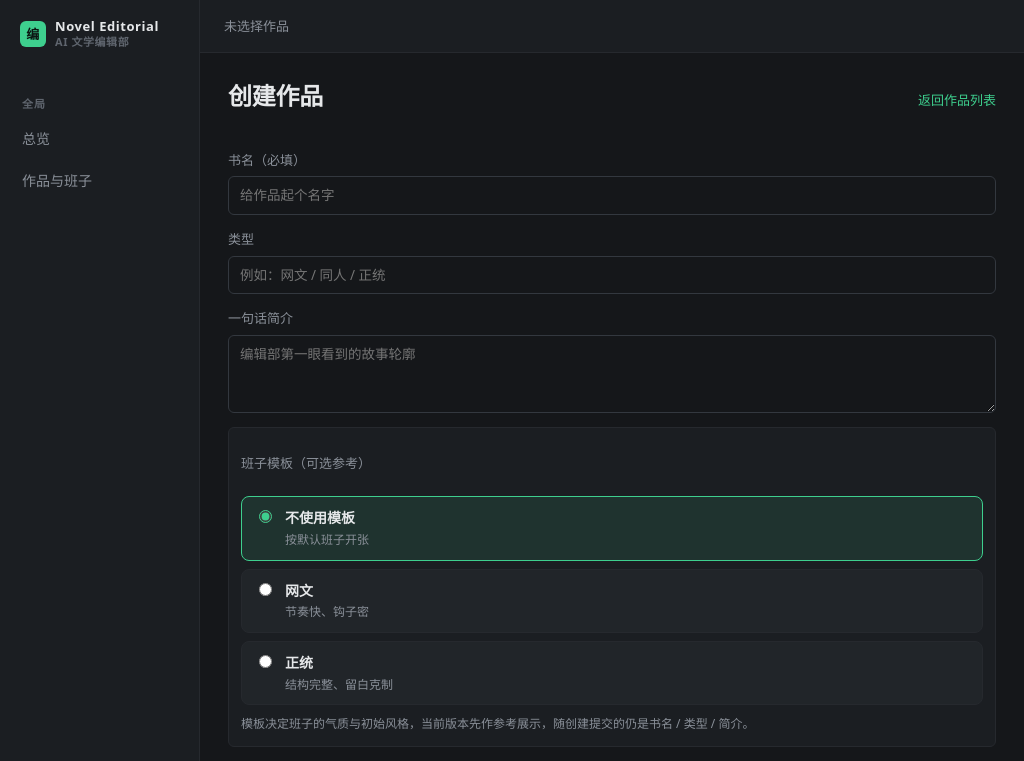
Test: works create page › creates the workspace and lands on its detail page with the shell selection set
This screenshot has width=1024, height=761.
expect the text "网文" is shown: met, box [285, 581, 313, 600]
Type "乙书" into the field with test id "works-title-input" at [612, 196], box [228, 176, 996, 215]
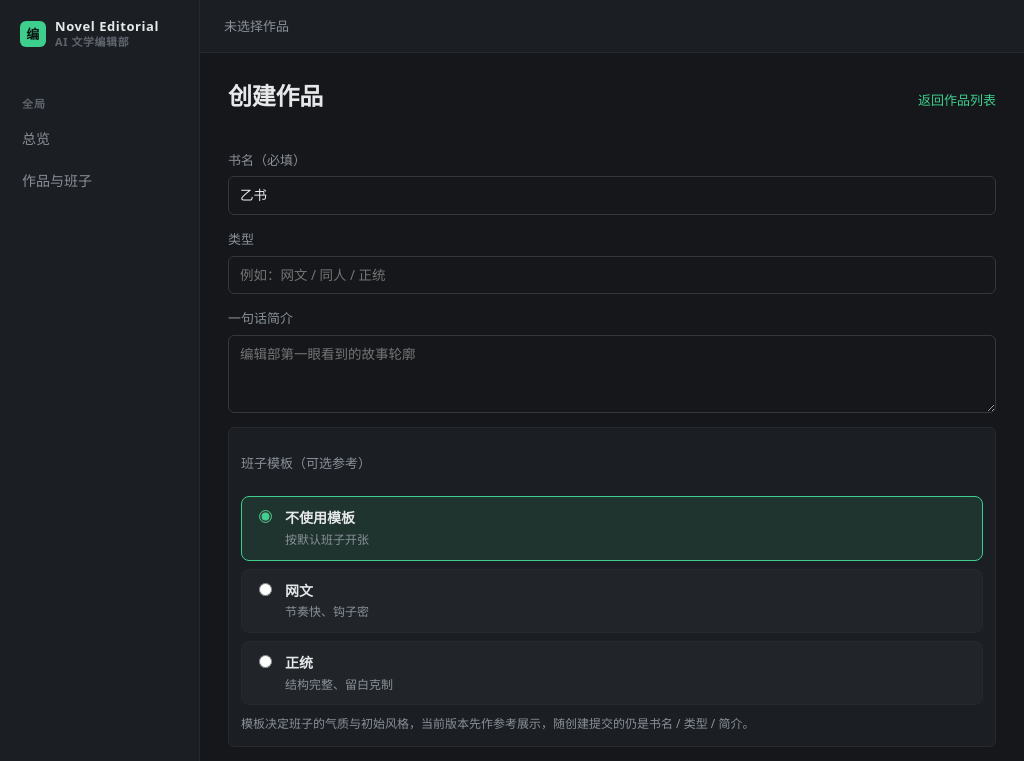
Type "同人" into the field named "作品类型" at [612, 275], box [228, 256, 996, 294]
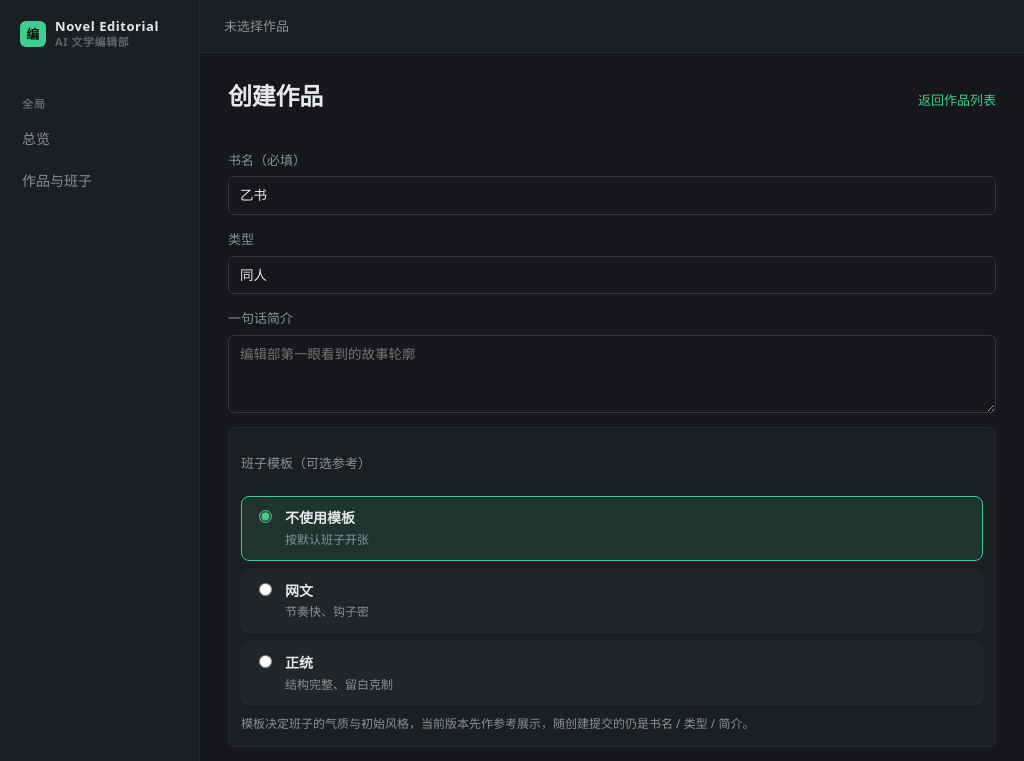
Type "一部短篇" into the text box named "作品简介" at [612, 374], box [228, 335, 996, 413]
(page scrolled)
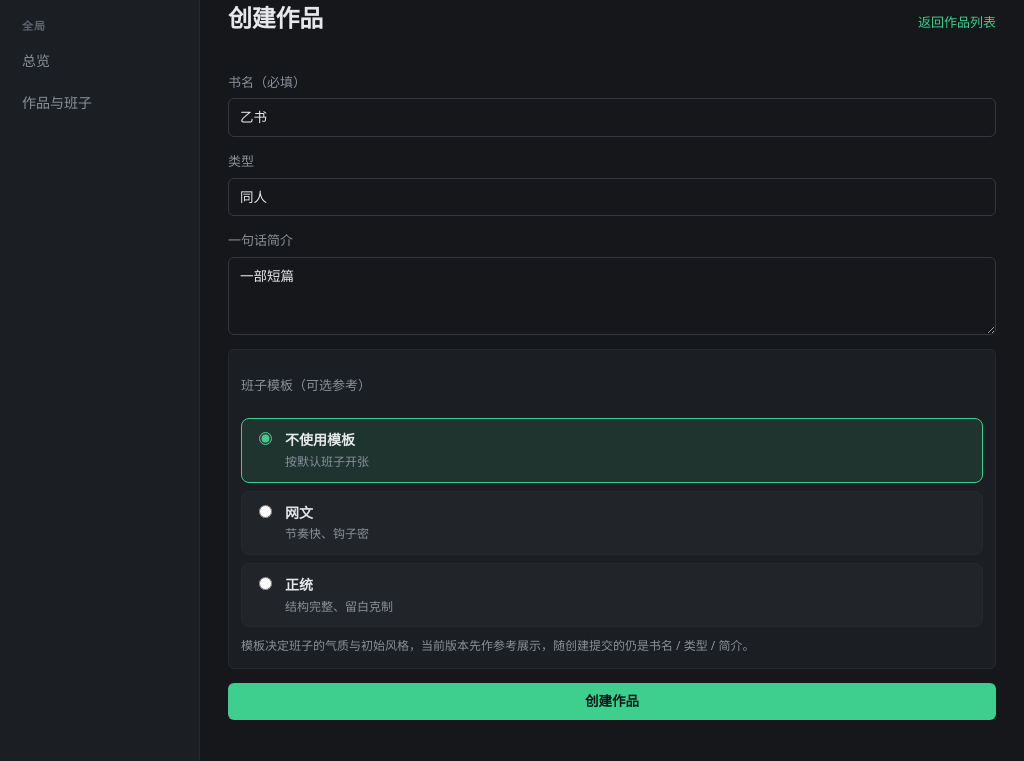
Click the button with test id "works-submit-button" at [612, 701], box [228, 683, 996, 720]
(page scrolled)
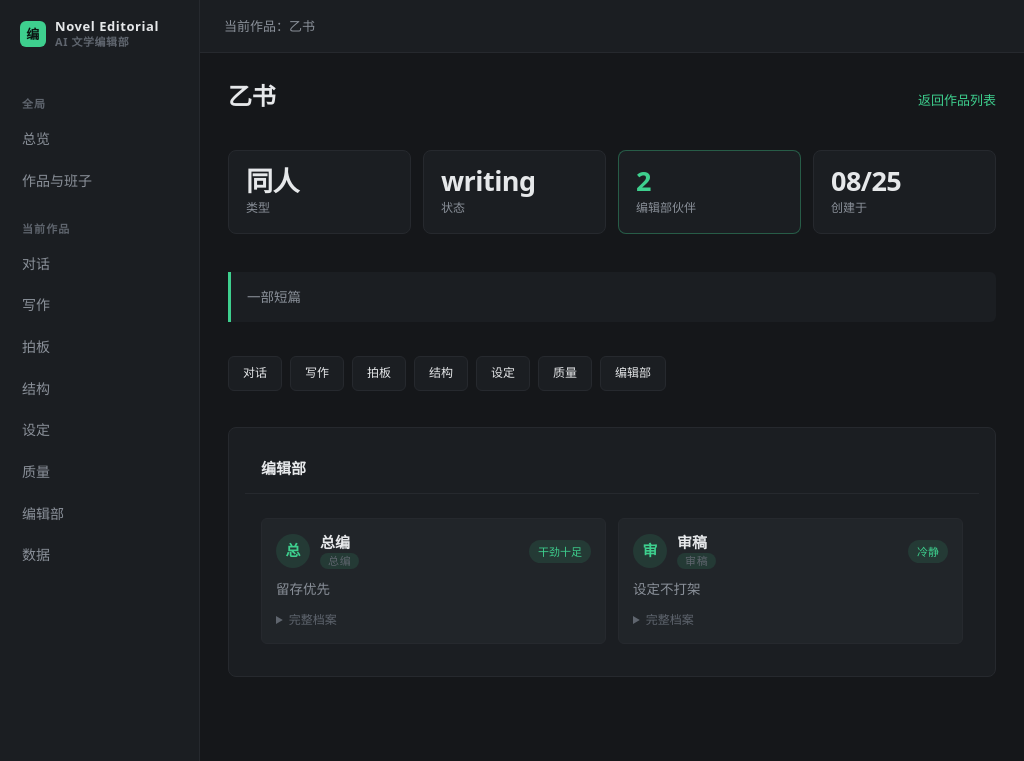
expect the heading "乙书" is shown: met, box [228, 77, 276, 114]
expect the element with test id "works-detail-page" shows "乙书": met, box [228, 79, 276, 112]
expect the text with test id "header-workspace" reads "当前作品：乙书": met, box [224, 17, 315, 35]
